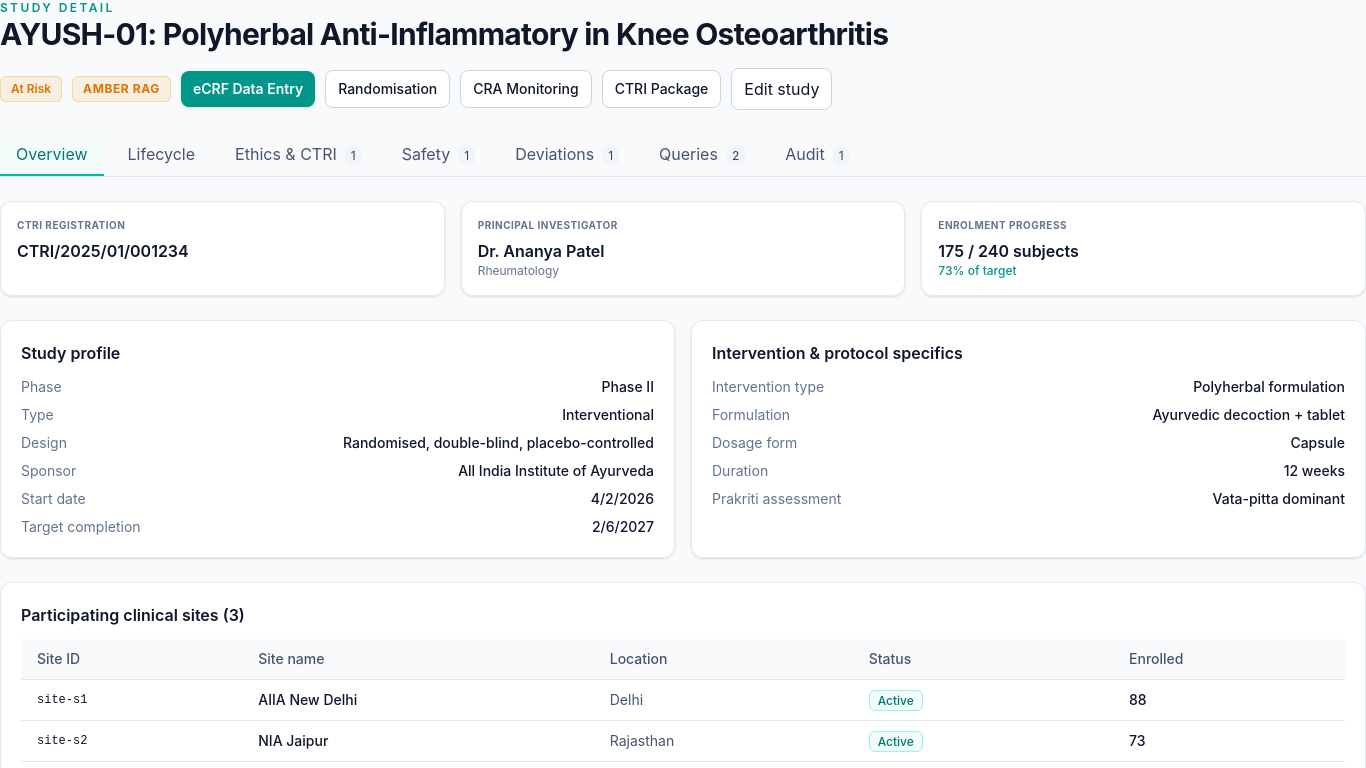
Test: Comprehensive Feature Verification Evidence Suite › VERIFY AUDIT TRAIL (Item 3): edits study record, verifies SHA-256 hash chaining, and outputs audit JSON
This screenshot has width=1366, height=768.
# Open Edit modal
Click the button "Edit study".
click(782, 89)  # box [731,68,832,110]
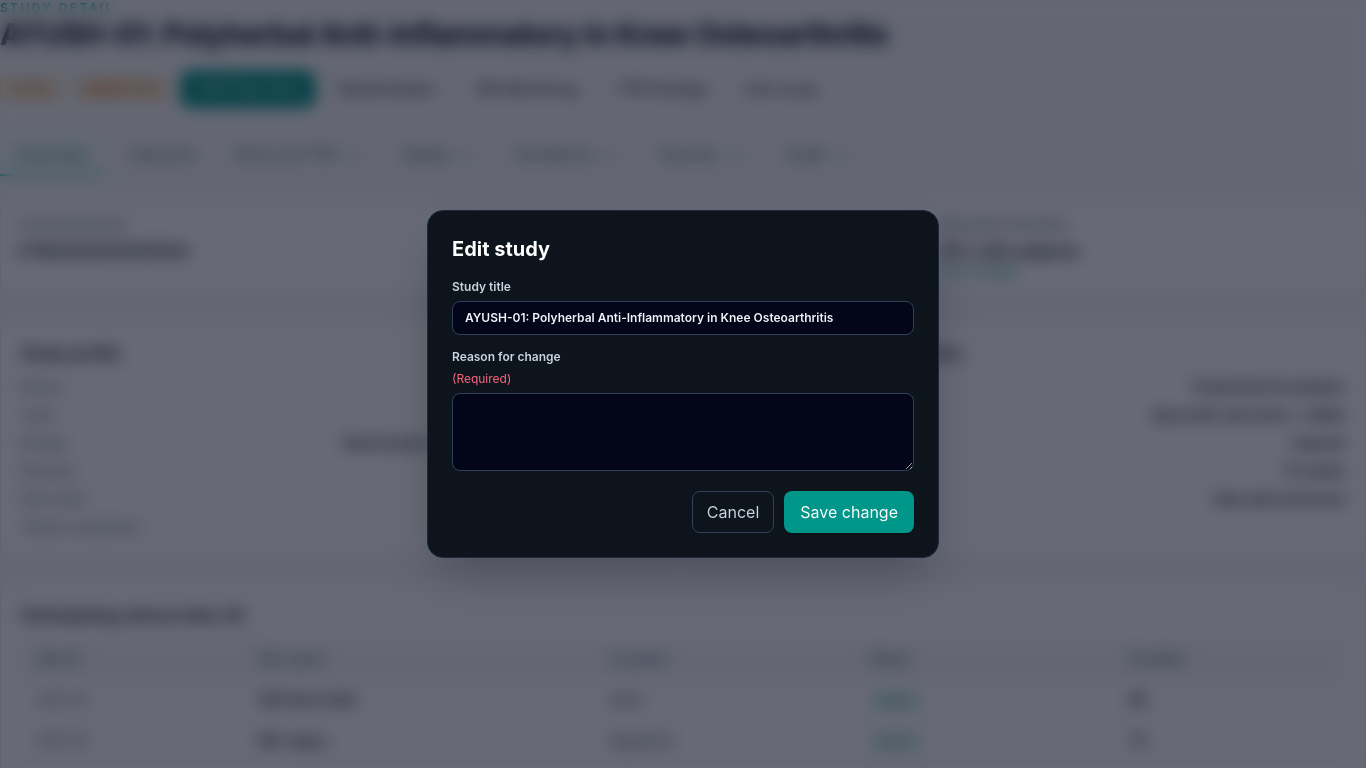
Replace the text in the field labelled "Study title" with "Ashwagandha in Generalised Anxiety Disorder (Updated Trial Title)" at (683, 318), box [452,301,914,335]
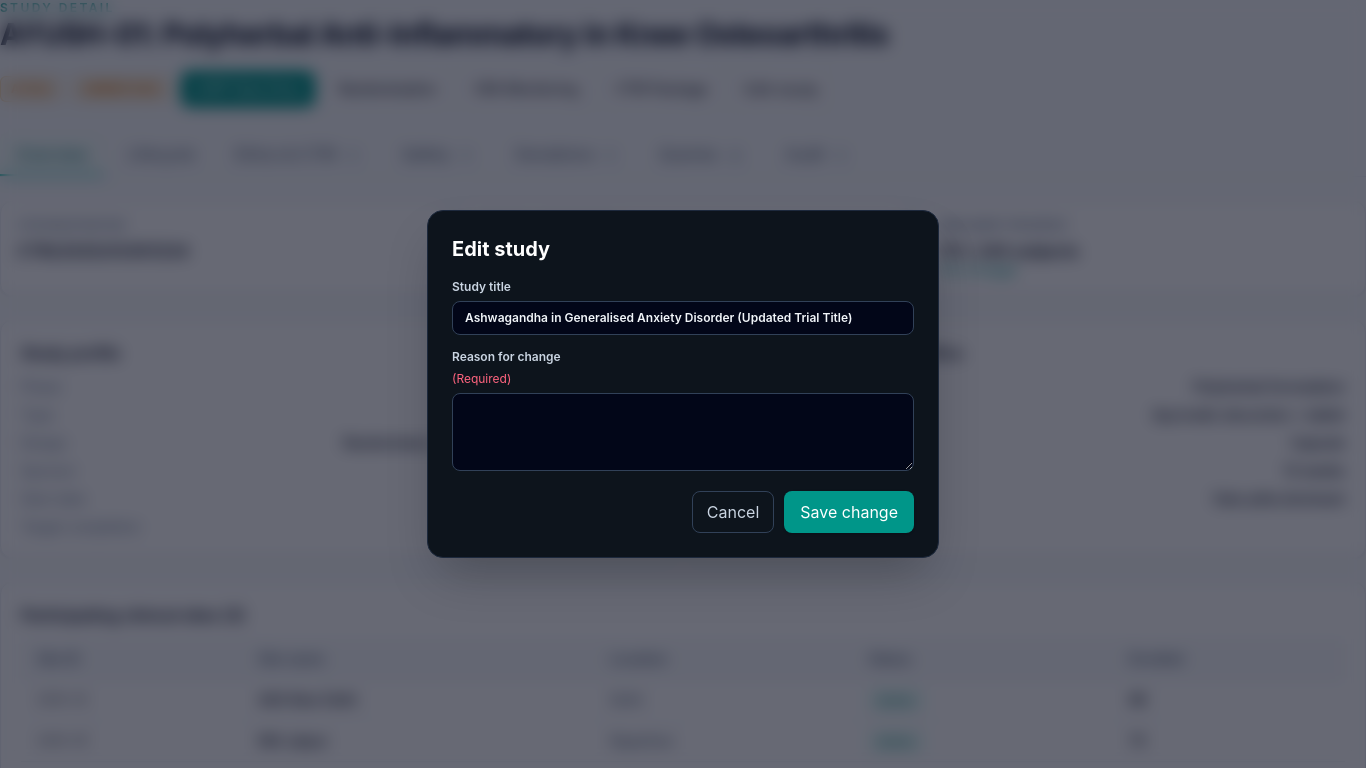
Type "Protocol title standardization update for regulatory filing" into the text box labelled "Reason for change (Required)".
click(683, 432); type("Protocol title standardization update for regulatory filing")  # box [452,393,914,471]
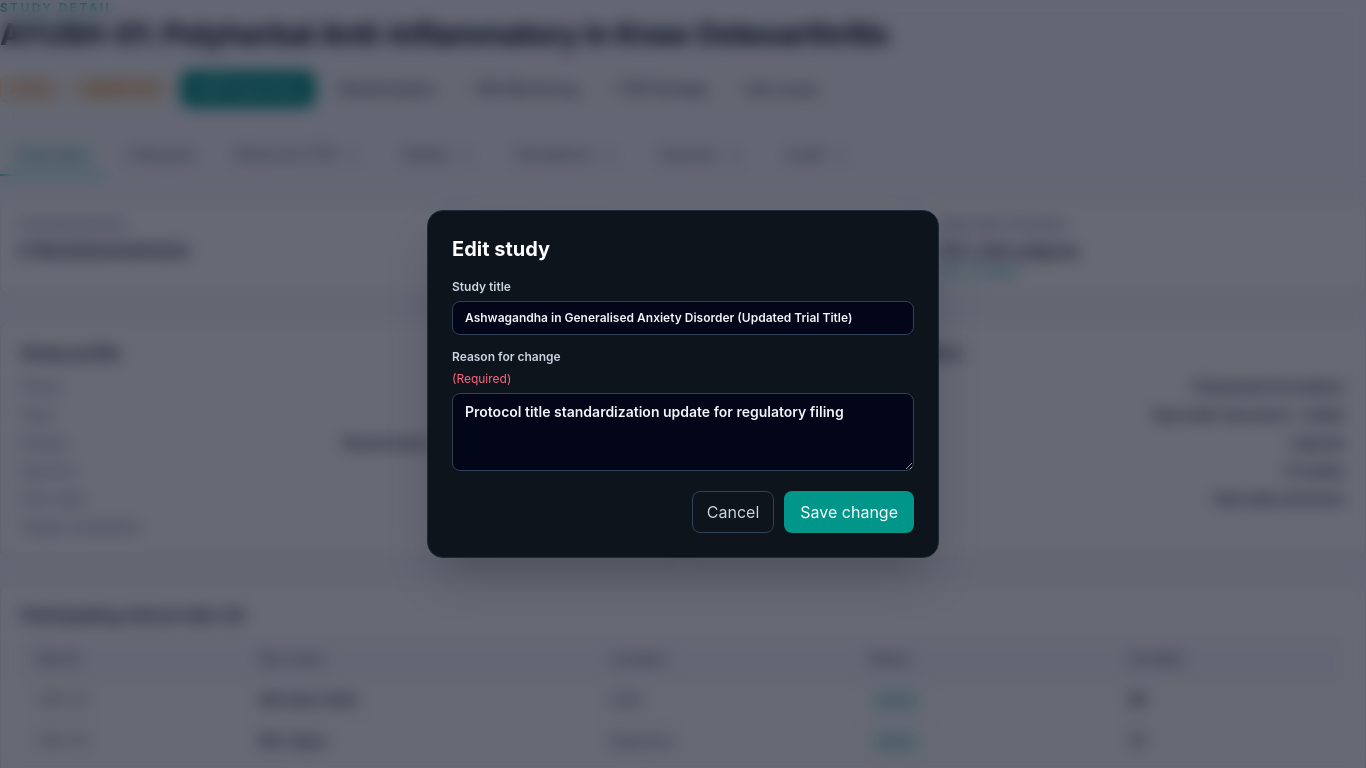
Click the button "Save change".
click(849, 512)  # box [784,491,914,533]
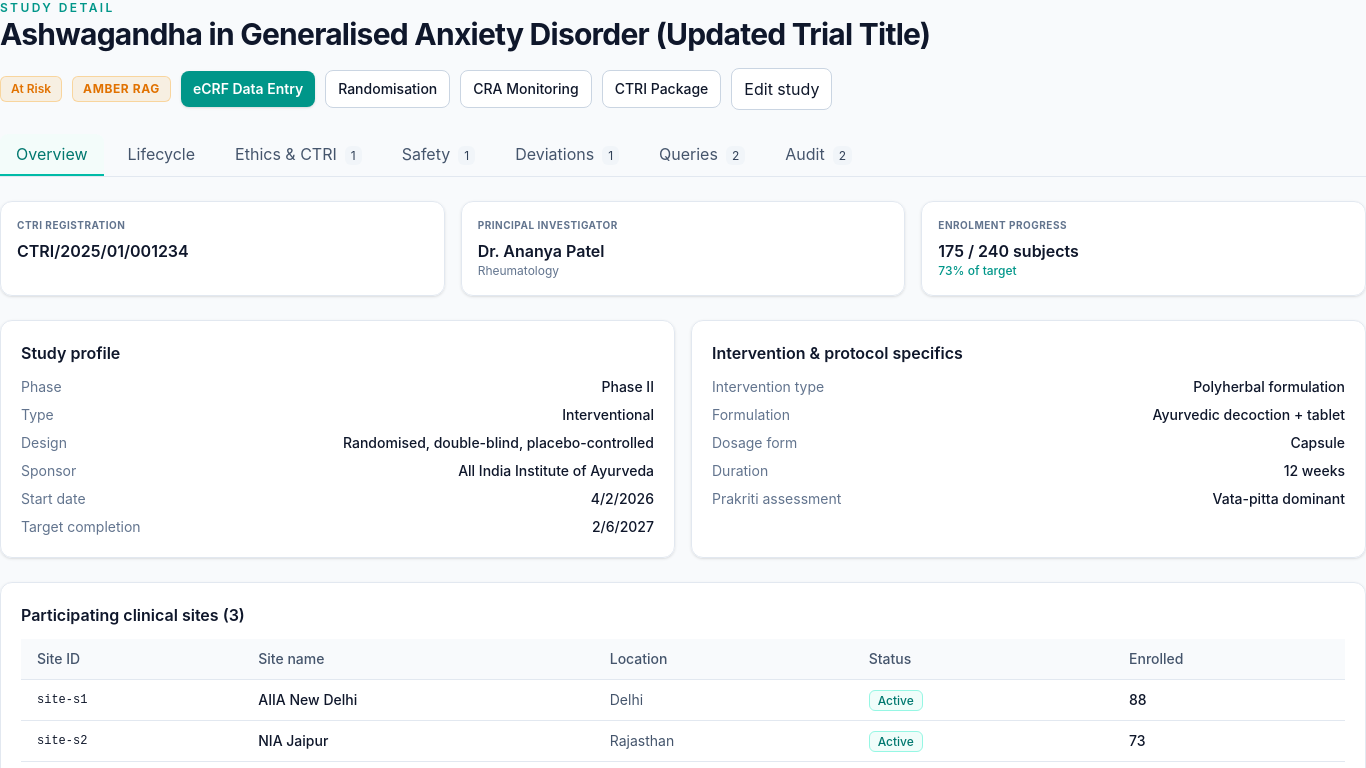
Check: the dialog is gone
